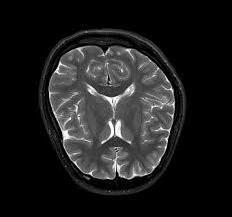Normal_Brain: (32, 1, 201, 199)
